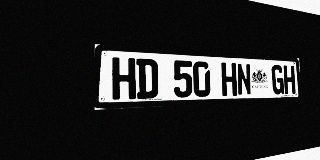0: (193, 61, 211, 97)
5: (174, 60, 193, 98)
D: (136, 58, 158, 99)
G: (271, 65, 284, 94)
H: (112, 57, 136, 100), (221, 62, 237, 96), (283, 65, 296, 94)
N: (237, 63, 252, 96)
